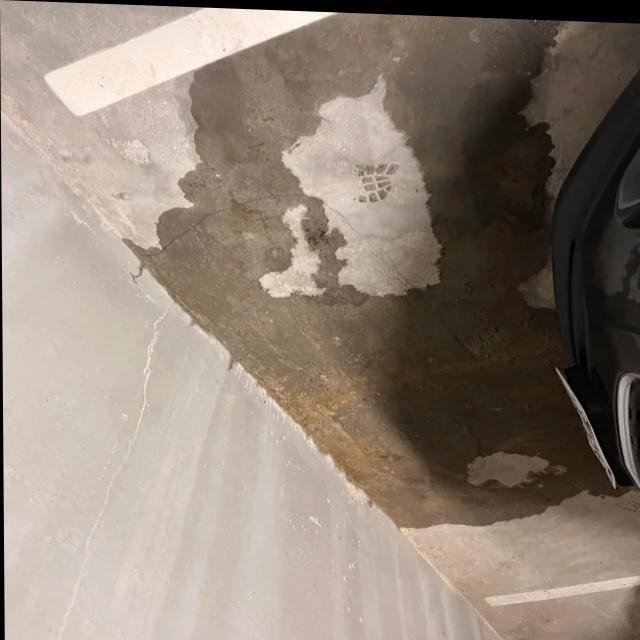water accumulation: (132, 7, 599, 526)
